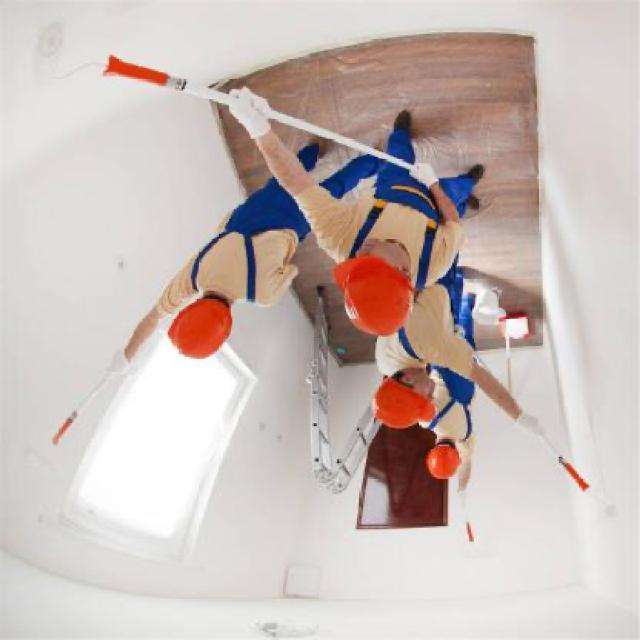con casco: (339, 339, 487, 449), (307, 240, 424, 347), (152, 276, 241, 370), (389, 414, 505, 486)
